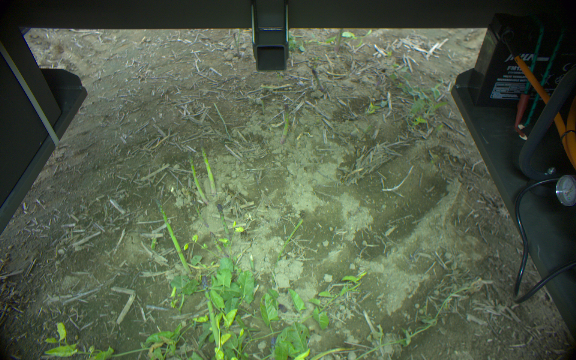aspa: (154, 198, 194, 278), (198, 277, 224, 353), (188, 152, 208, 204), (199, 145, 218, 198), (208, 231, 229, 263), (278, 99, 293, 143), (310, 65, 324, 94), (217, 205, 230, 236), (331, 29, 345, 55), (231, 31, 241, 57)
